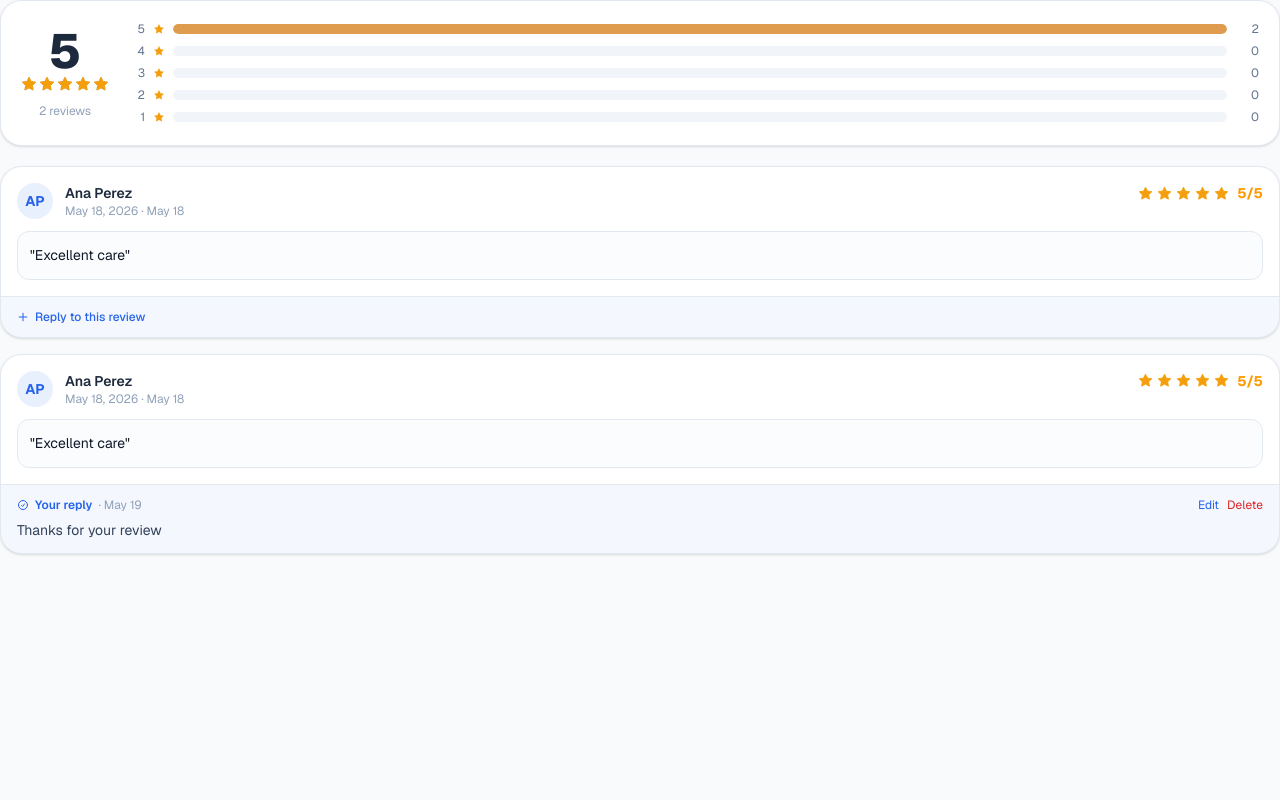
Test: ResenasView i18n › renders review stats, reply UI, and existing replies in English
expect the text "2 reviews" is shown: met, box [39,103,91,119]
expect the text "Your reply" is shown: met, box [35,496,92,512]
Click the button "Reply to this review".
click(81, 317)  # box [17,309,145,325]
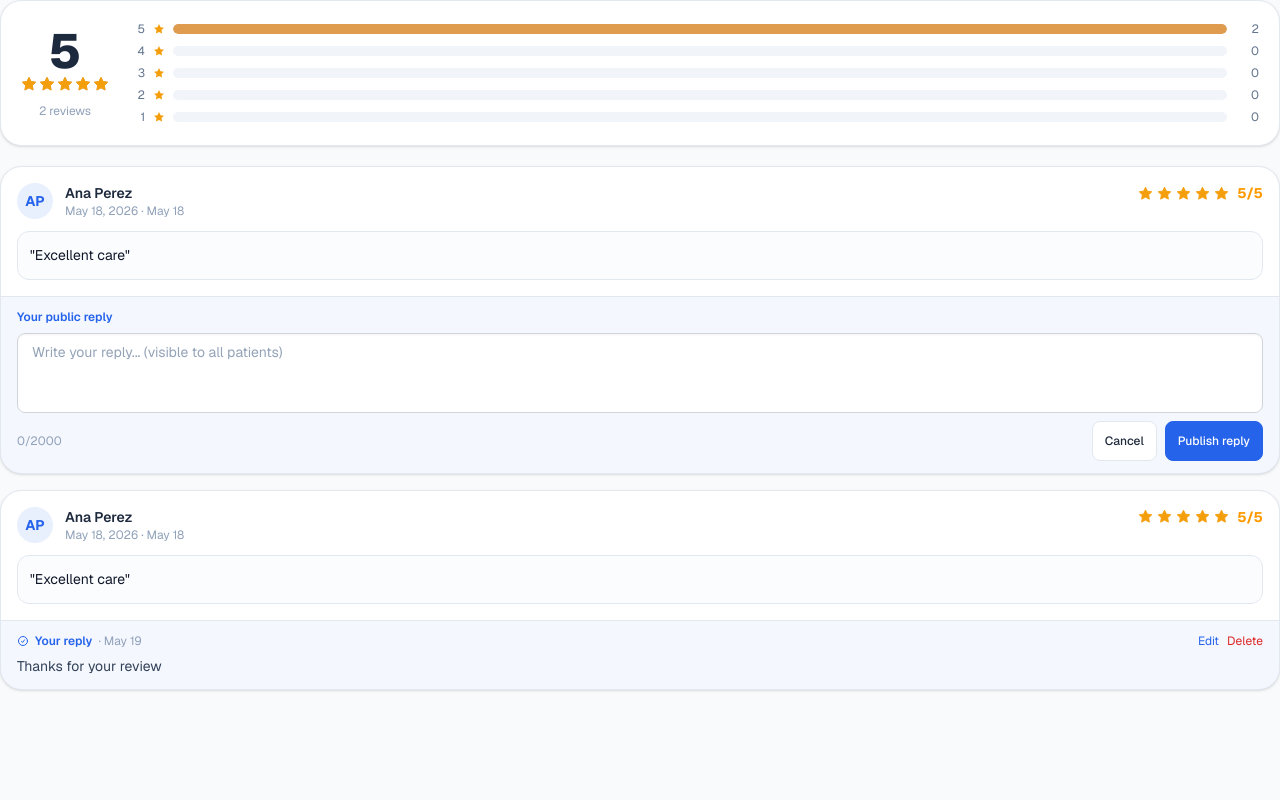
expect the text "Your public reply" is shown: met, box [17,309,112,325]
expect the text box with placeholder "Write your reply... (visible to all patients)" is shown: met, box [17,333,1263,413]
expect the button "Cancel" is shown: met, box [1092,421,1157,461]
